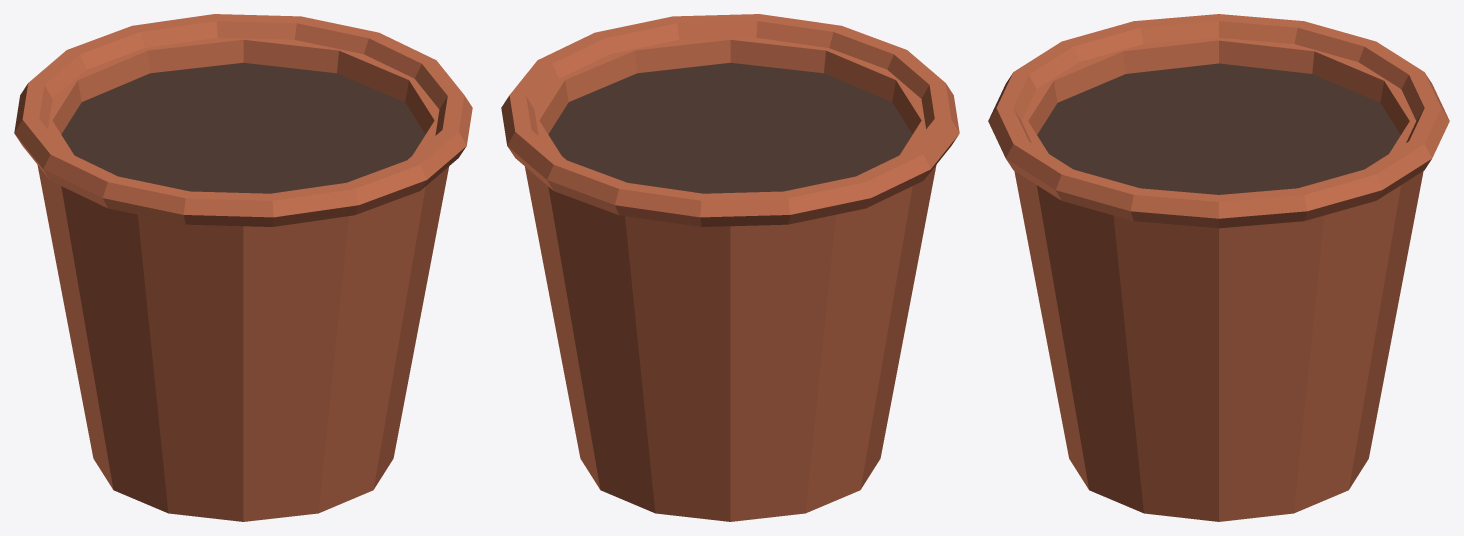
The model's file is market_07_Terracotta_Pot.glb.
3 renders of one model, left to right at view 1: azimuth 30°, elevation 25°; view 2: azimuth 150°, elevation 25°; view 3: azimuth 270°, elevation 25°, orthographic.
Visible parts, largest first — view 1: 07_Terracotta_Pot; view 2: 07_Terracotta_Pot; view 3: 07_Terracotta_Pot.
Boxes of the visible parts, x1,y1,x2,y2 form: 07_Terracotta_Pot: (14,14,472,521); 07_Terracotta_Pot: (501,14,959,521); 07_Terracotta_Pot: (988,14,1449,521).
Bounding box in the file's own units: 0.496 × 0.4156 × 0.496.
